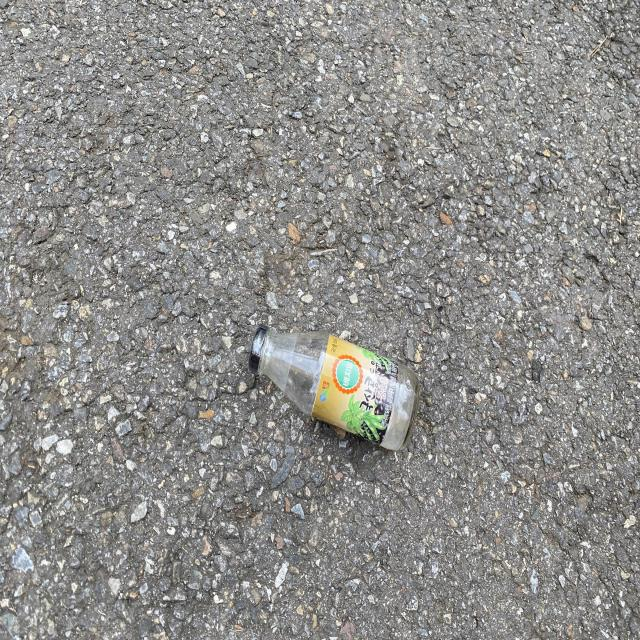glass: (248, 326, 420, 450)
